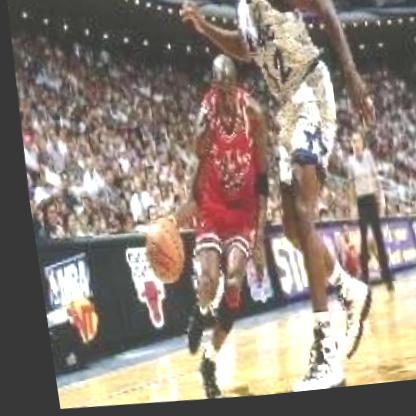basketball: (131, 213, 182, 287)
